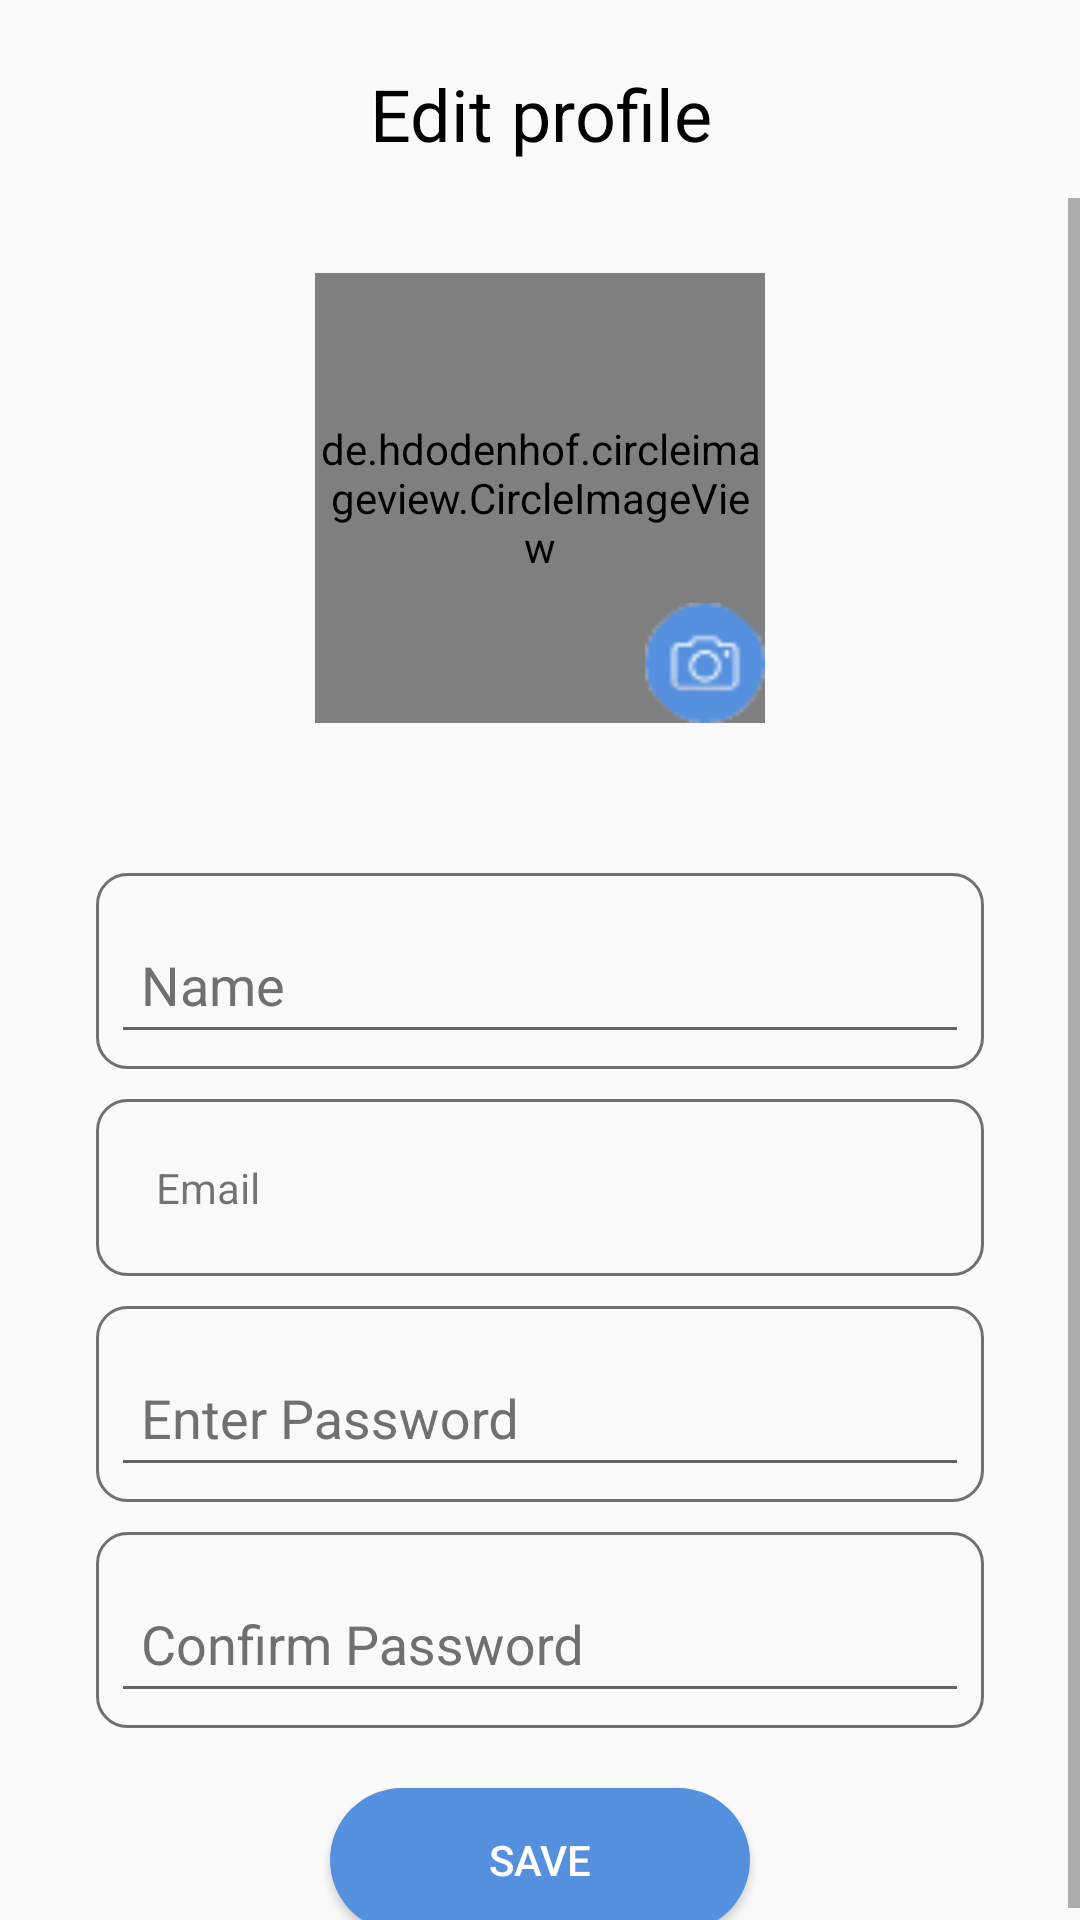

Icon click points for this 1080w x 1920h phone screenshot, format (x,y):
camerapic: (705,663)
